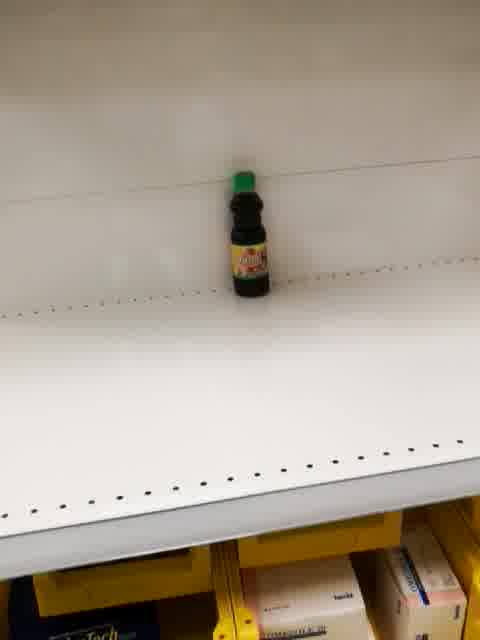cookingoil: (226, 167, 272, 299)
